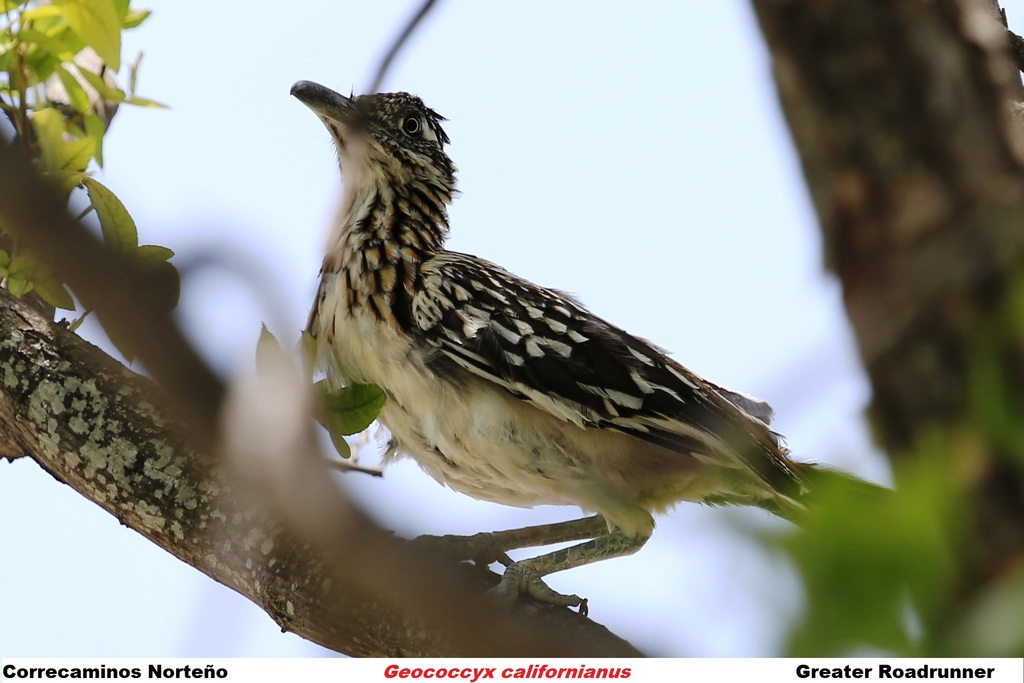Animal: (281, 73, 902, 617)
